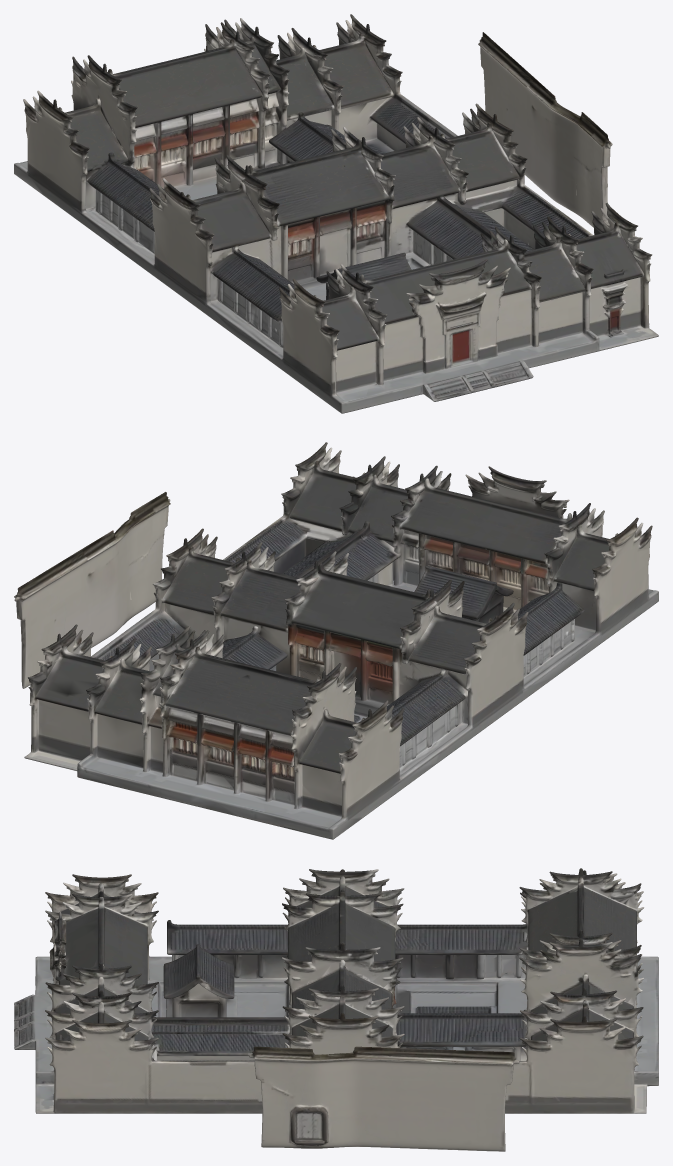
The model's file is huipai-building.glb.
3 views of the same model, one above another, from view 1: azimuth 30°, elevation 25°; view 2: azimuth 150°, elevation 25°; view 3: azimuth 270°, elevation 25° (orthographic). The views are drawn at different scales.
Parts seen in each view (by area): view 1: node_0; view 2: node_0; view 3: node_0.
Part boxes in pixels (x1=…): node_0: x1=14, y1=14, x2=658, y2=413; node_0: x1=14, y1=442, x2=658, y2=839; node_0: x1=14, y1=868, x2=658, y2=1151.
Bounding box in the file's own units: 0.6717 × 0.2103 × 0.9847.
1 material, 1 textured.
